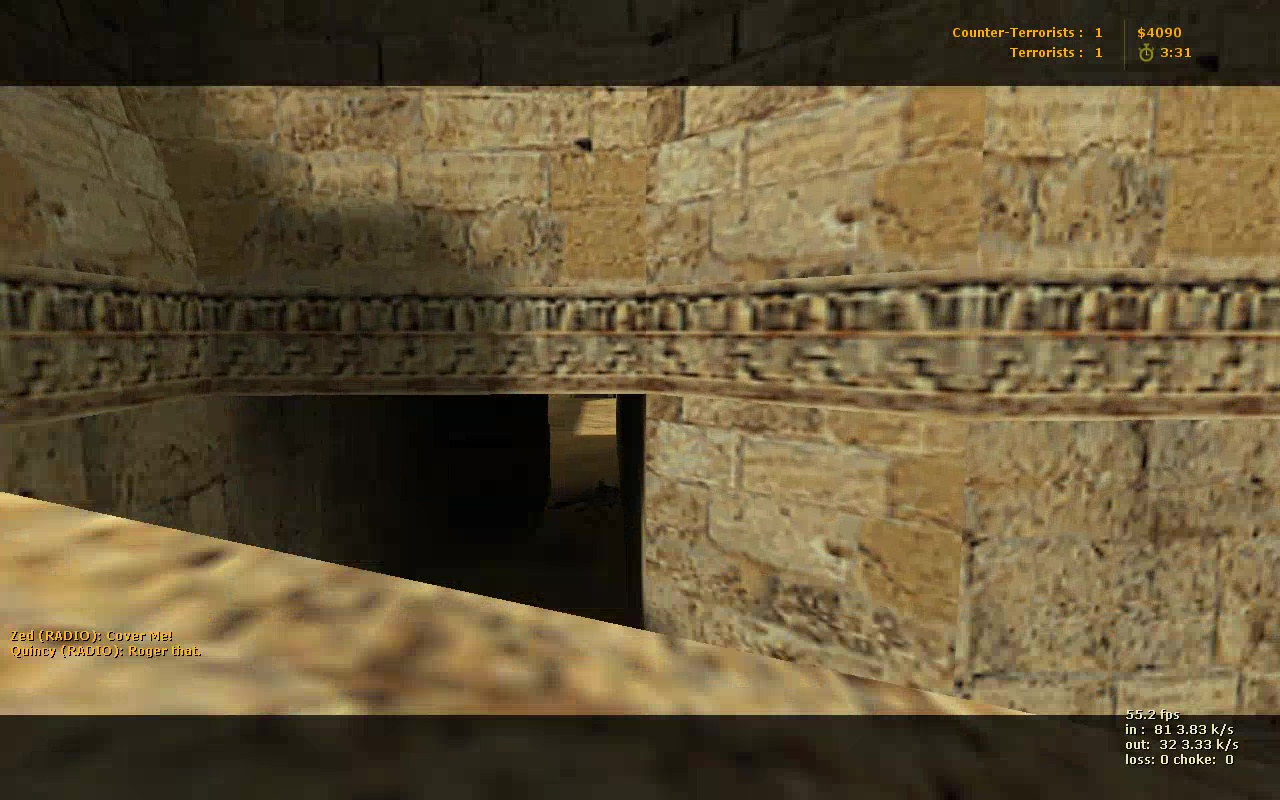dead: (555, 480, 621, 525)
